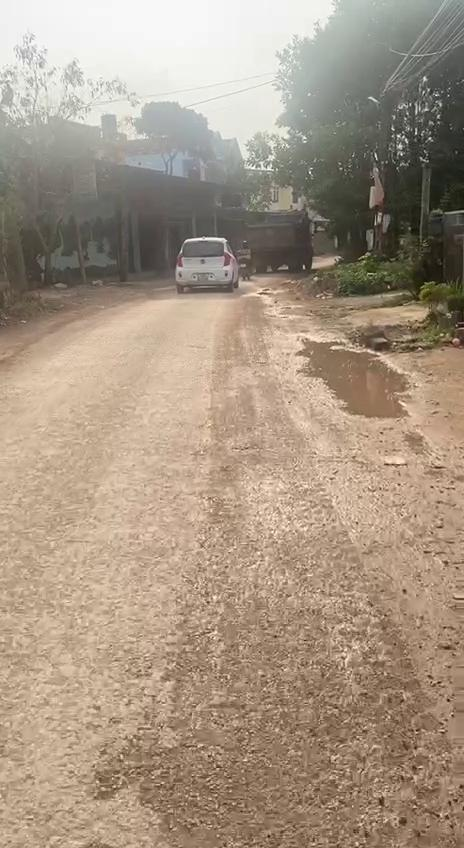pothole: (288, 335, 420, 424)
